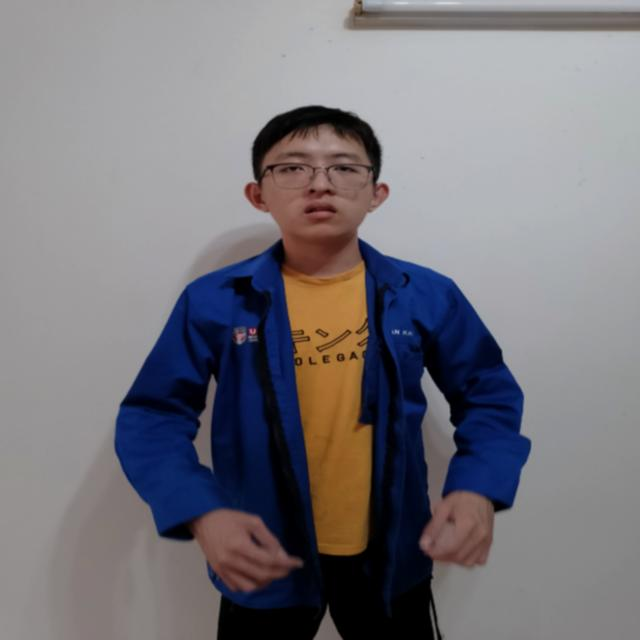person_with_labcoat: (115, 106, 529, 640)
